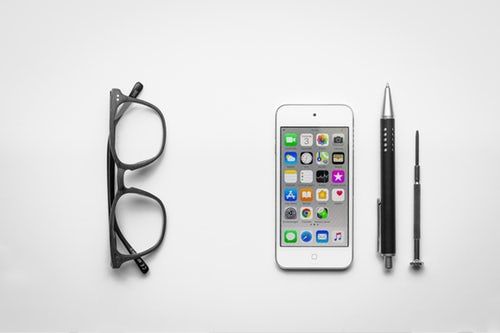phone: (274, 102, 355, 273)
